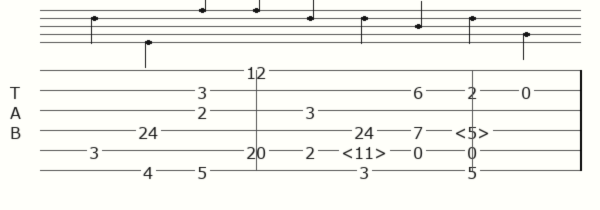0: (413, 142, 427, 158), (467, 142, 481, 158), (521, 82, 535, 98)
12: (246, 62, 270, 78)
2: (197, 102, 211, 118), (305, 142, 319, 158), (467, 82, 481, 98)
20: (246, 142, 270, 158)
24: (138, 122, 162, 138), (354, 122, 378, 138)
3: (89, 142, 103, 158), (197, 82, 211, 98), (305, 102, 319, 118), (359, 162, 373, 178)
4: (143, 162, 157, 178)
5: (197, 162, 211, 178), (467, 162, 481, 178)
6: (413, 82, 427, 98)
7: (413, 122, 427, 138)
harmonic: (341, 142, 391, 158), (454, 122, 494, 138)
